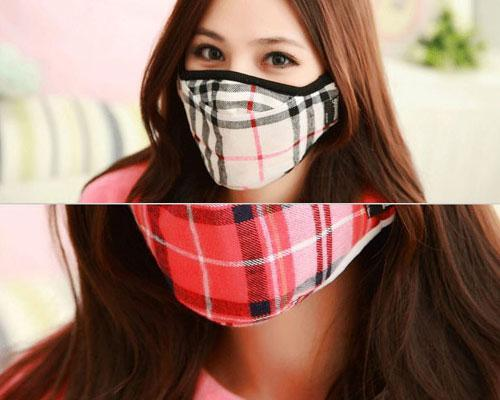OK: (188, 23, 353, 188)
